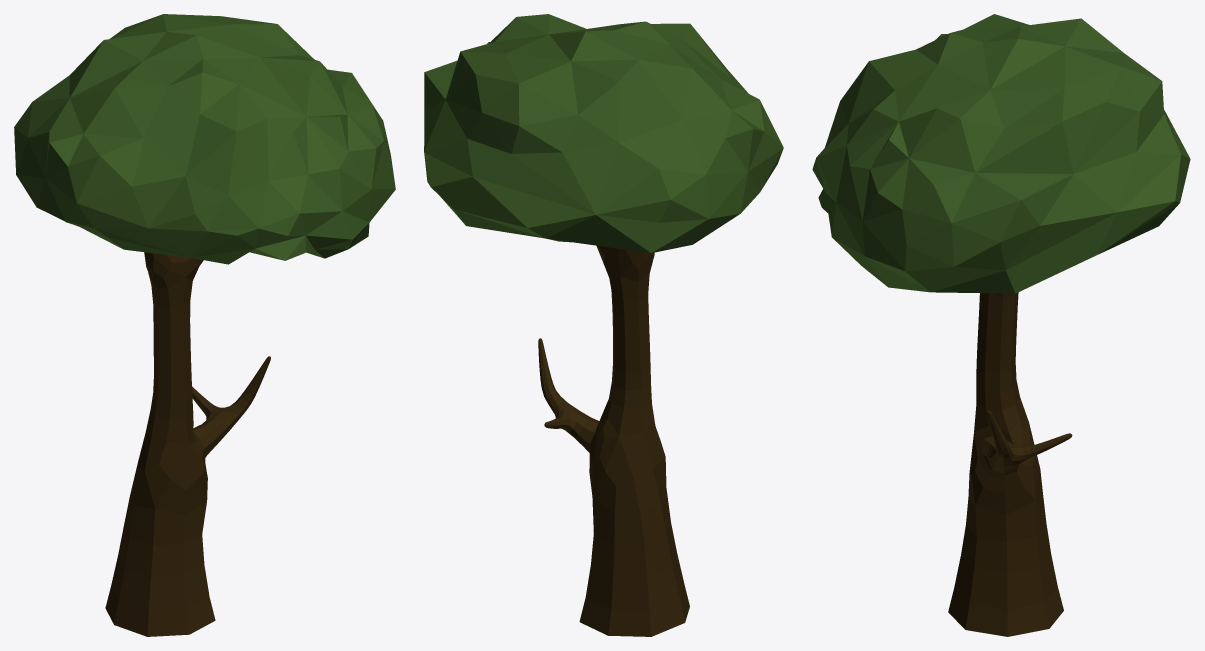
The model's file is jungletree.fbx.
3 views of the same model, side by side, from view 1: azimuth 30°, elevation 25°; view 2: azimuth 150°, elevation 25°; view 3: azimuth 270°, elevation 25° (orthographic). The views are drawn at different scales.
Visible parts, largest first — view 1: Cube; view 2: Cube; view 3: Cube.
Boxes of the visible parts, x1,y1,x2,y2 form: Cube: (14,14,395,636); Cube: (424,14,783,636); Cube: (812,14,1190,636).
Bounding box in the file's own units: 640 × 1072 × 617.
